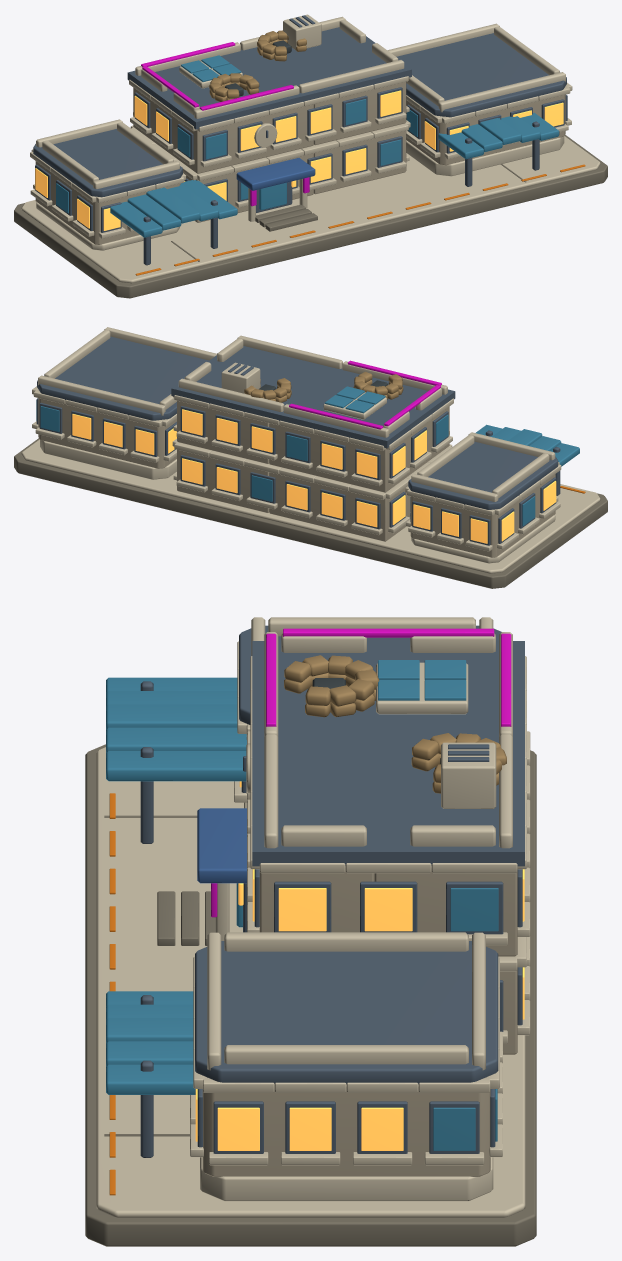
The model's file is civilian-station-garrison.glb.
The picture shows the model from 3 angles, top to bottom: view 1: azimuth 30°, elevation 25°; view 2: azimuth 150°, elevation 25°; view 3: azimuth 270°, elevation 25°; orthographic projection. The views are drawn at different scales.
Visible parts, largest first — view 1: CivilianShell; view 2: CivilianShell; view 3: CivilianShell.
Boxes of the visible parts, box(x1,y1,x2,y2) form: CivilianShell: box(14, 14, 607, 298); CivilianShell: box(14, 327, 607, 588); CivilianShell: box(85, 617, 536, 1246).
Size of the model in its own units: 4.97 by 1.38 by 1.98.
